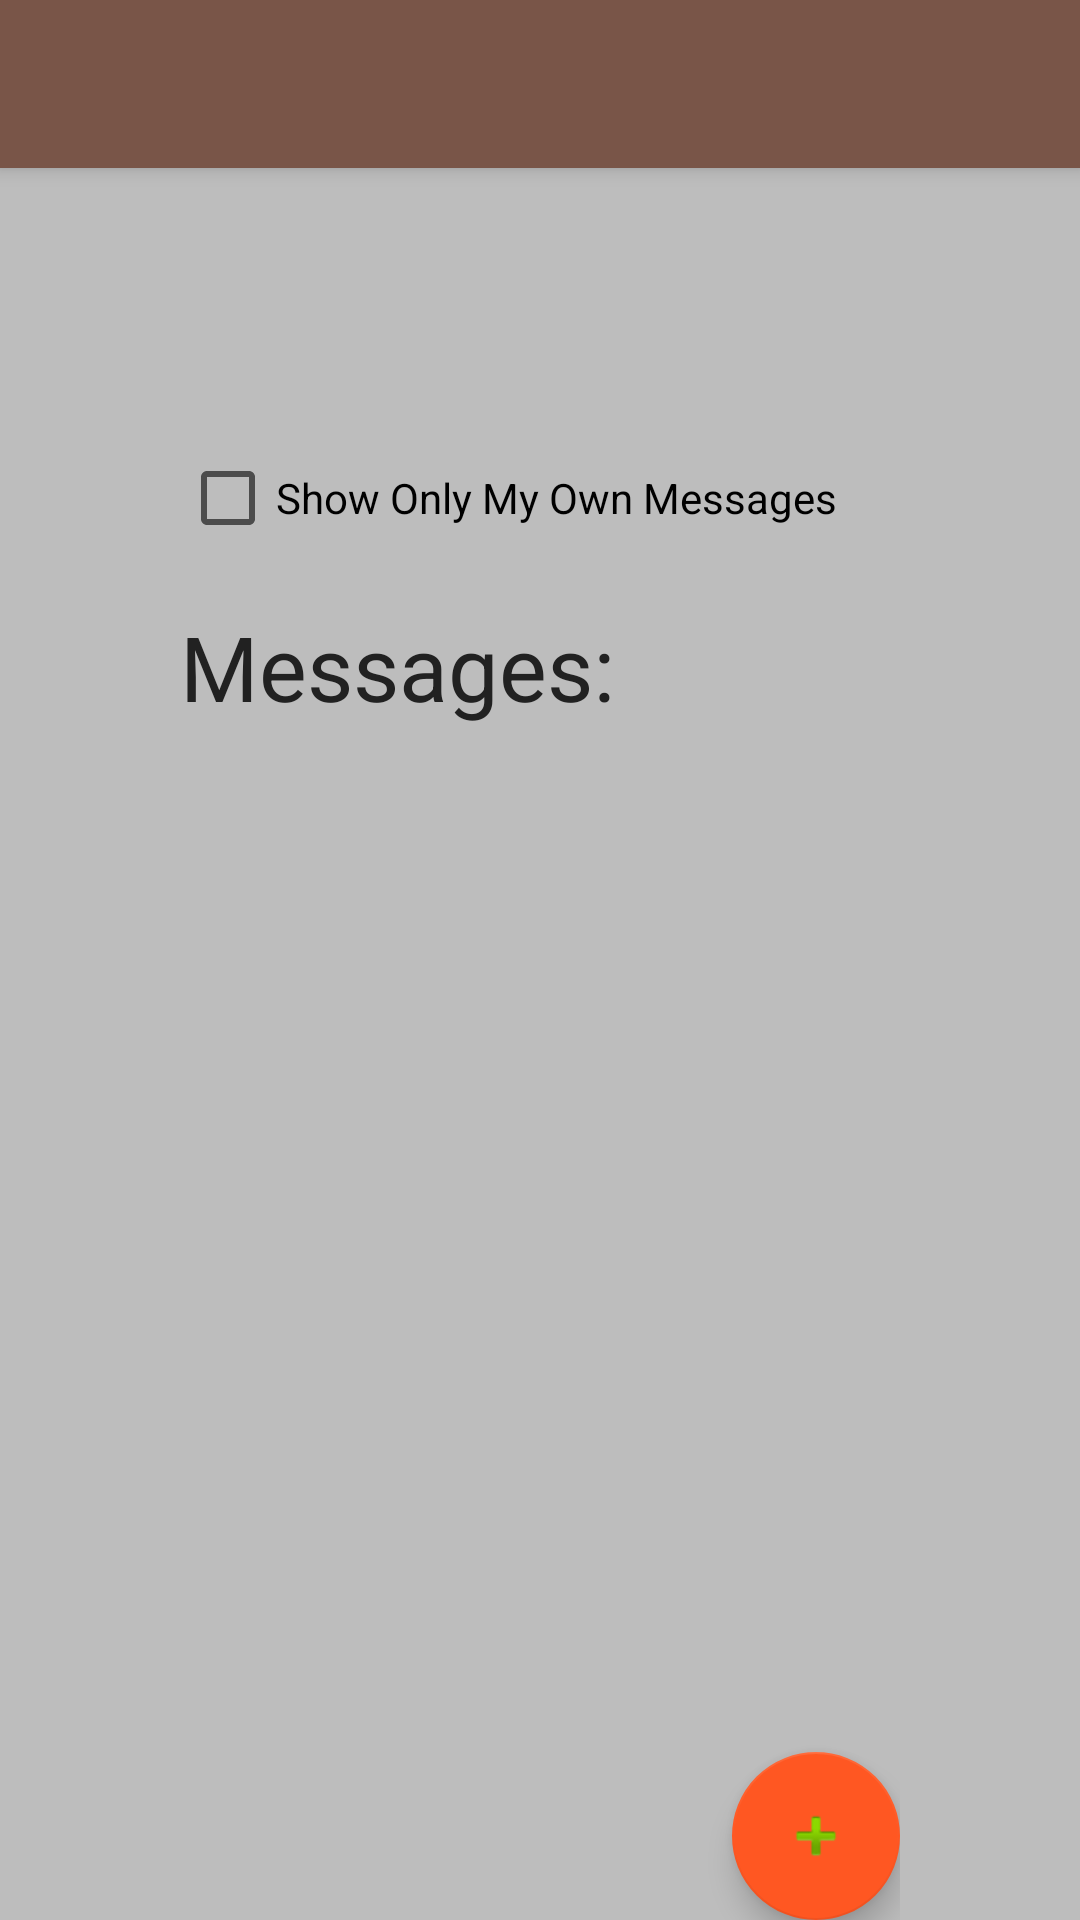

Icons on this 1080px x 1920px Android screen, each with its box as (x1, y1, x2, y2):
add: (732, 1752, 900, 1920)
